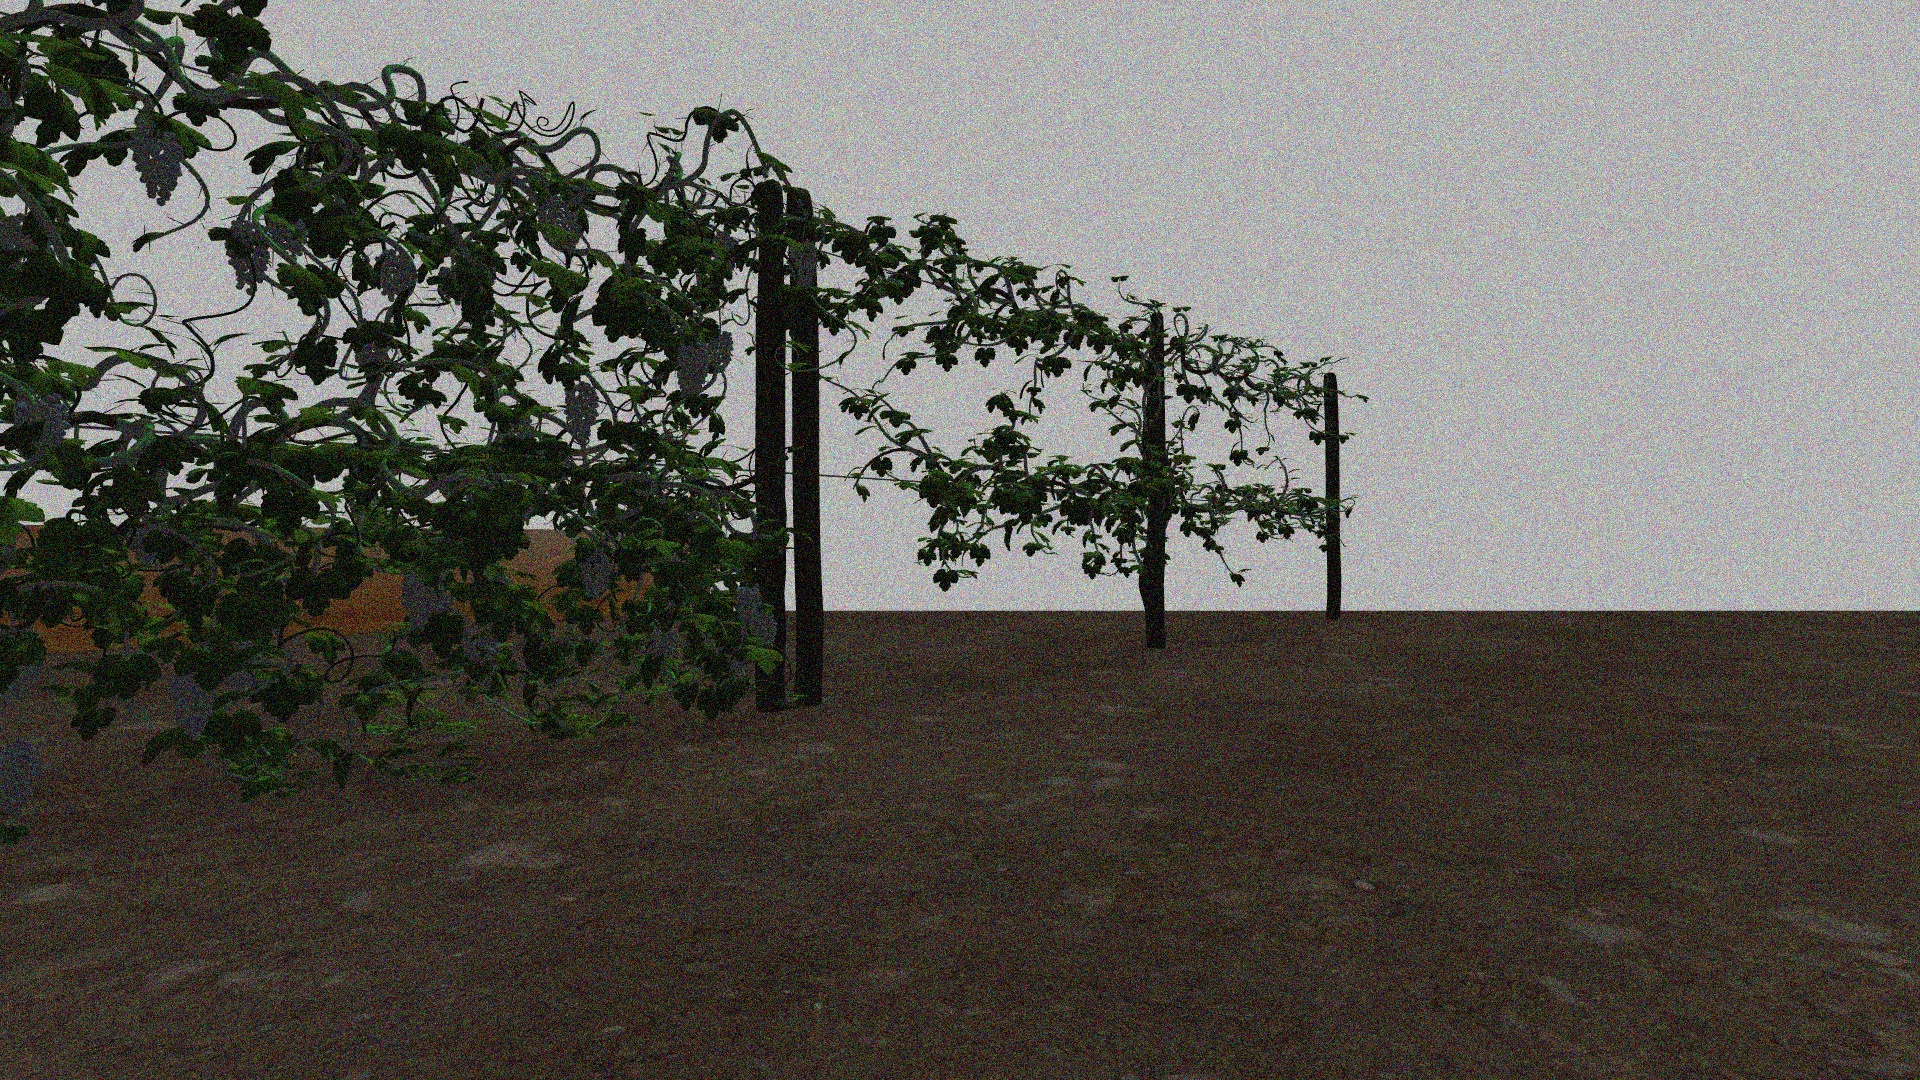grape: (132, 127, 182, 204), (15, 394, 69, 462), (171, 667, 216, 741), (4, 738, 44, 818), (227, 219, 268, 294), (400, 574, 438, 636), (676, 340, 709, 400), (564, 382, 599, 438), (579, 549, 613, 601), (377, 252, 414, 301), (269, 218, 309, 261), (786, 243, 818, 286), (462, 632, 500, 665), (750, 612, 778, 651), (705, 334, 735, 371), (736, 583, 761, 625), (649, 628, 678, 661)
